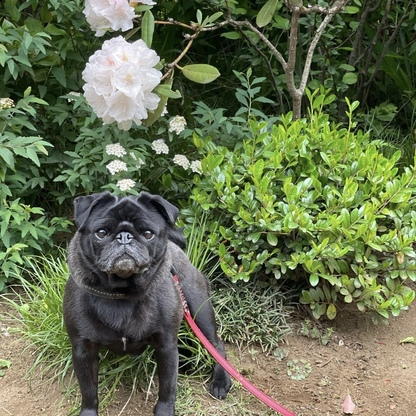Pug: (57, 189, 239, 416)
